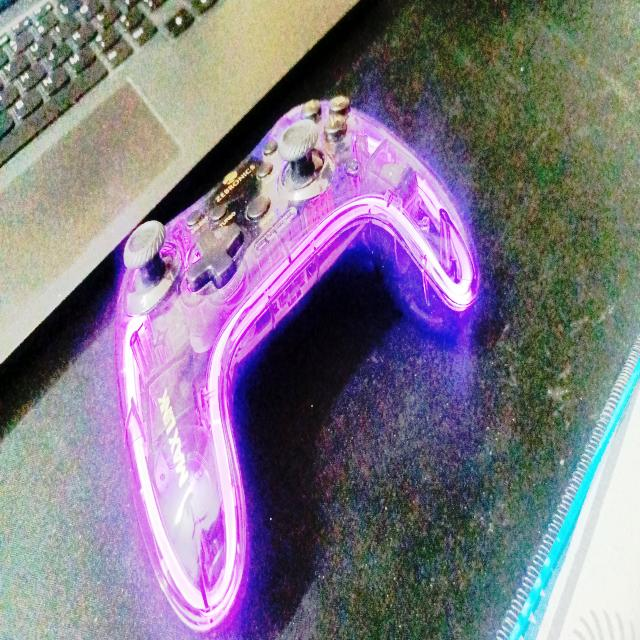gamepad: (112, 93, 480, 633)
